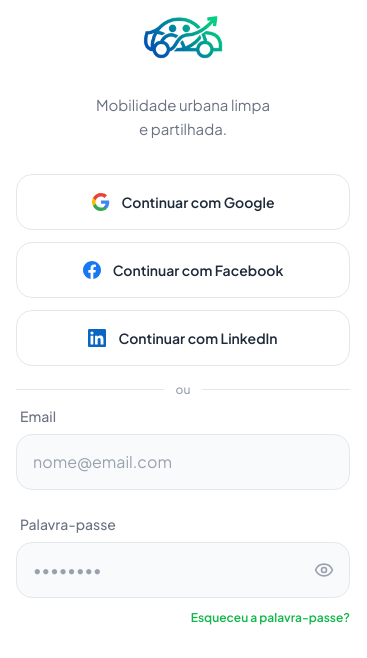
Test: Auth OAuth › no login, Google não envia papel
Click the button "Continuar com Google" at point(183, 202), box [16,174,350,230]
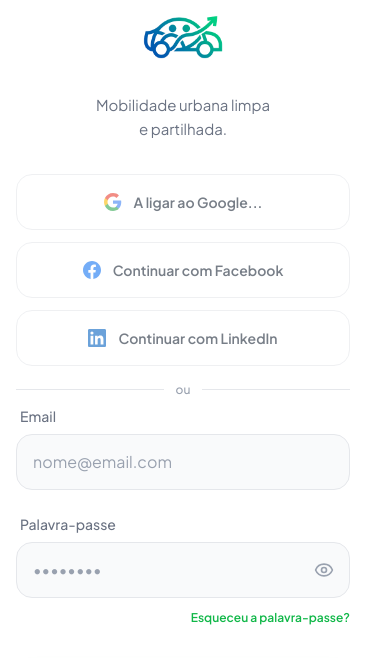
Check: the button "A ligar ao Google..." is disabled, box [16,174,350,230]
